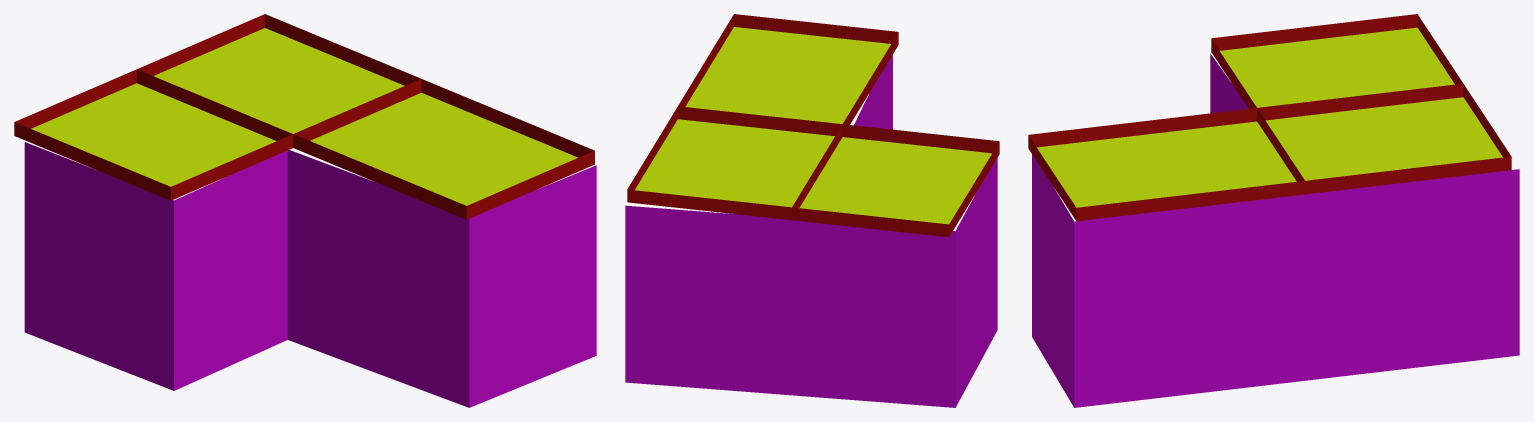
File: bgj_266.glb
3 views of the same model, side by side, from view 1: azimuth 30°, elevation 25°; view 2: azimuth 150°, elevation 25°; view 3: azimuth 270°, elevation 25° (orthographic). The views are drawn at different scales.
Visible parts, largest first — view 1: bgj_266; view 2: bgj_266; view 3: bgj_266.
Part boxes in pixels (x1=…): bgj_266: x1=14, y1=14, x2=596, y2=407; bgj_266: x1=625, y1=14, x2=999, y2=407; bgj_266: x1=1028, y1=14, x2=1519, y2=407.
Bounding box in the file's own units: 10.72 × 5.15 × 11.47.
